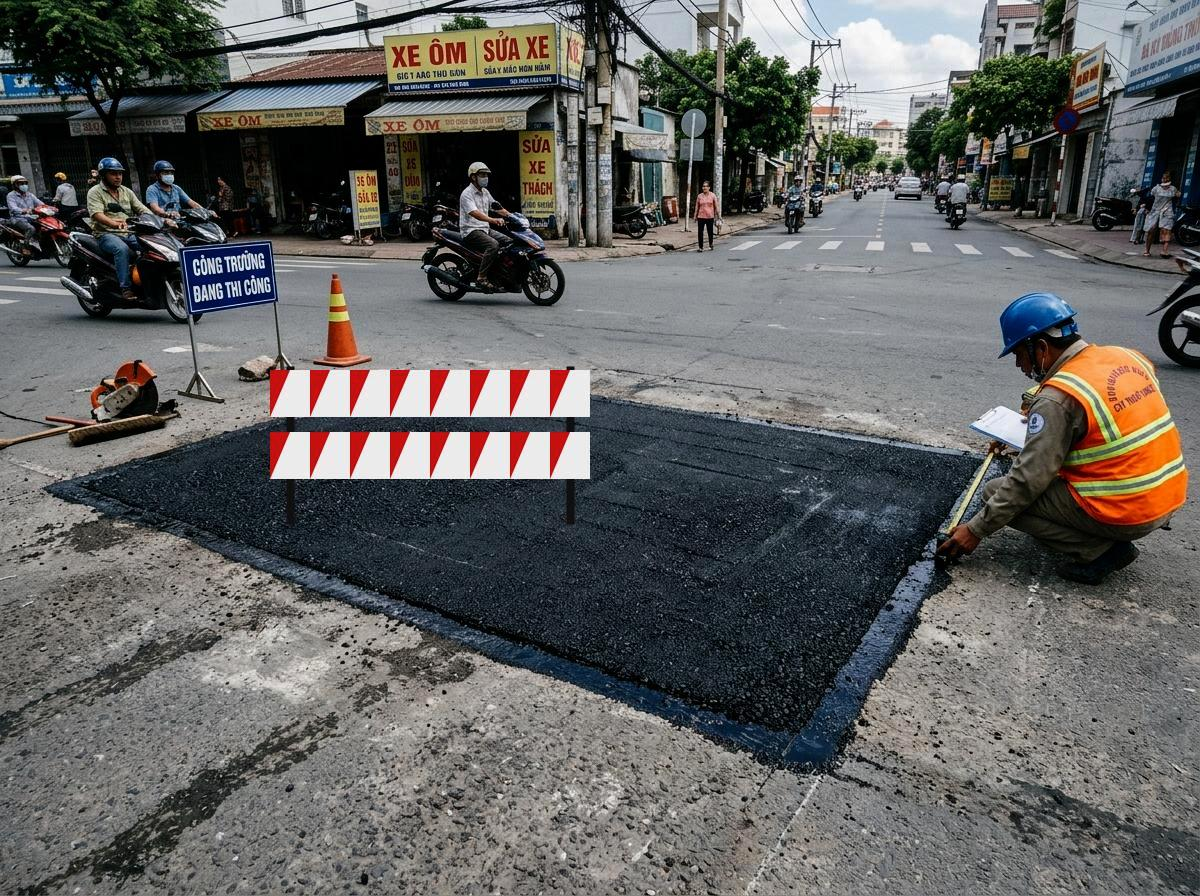ROAD_OBSTACLE: (255, 325, 605, 525)
